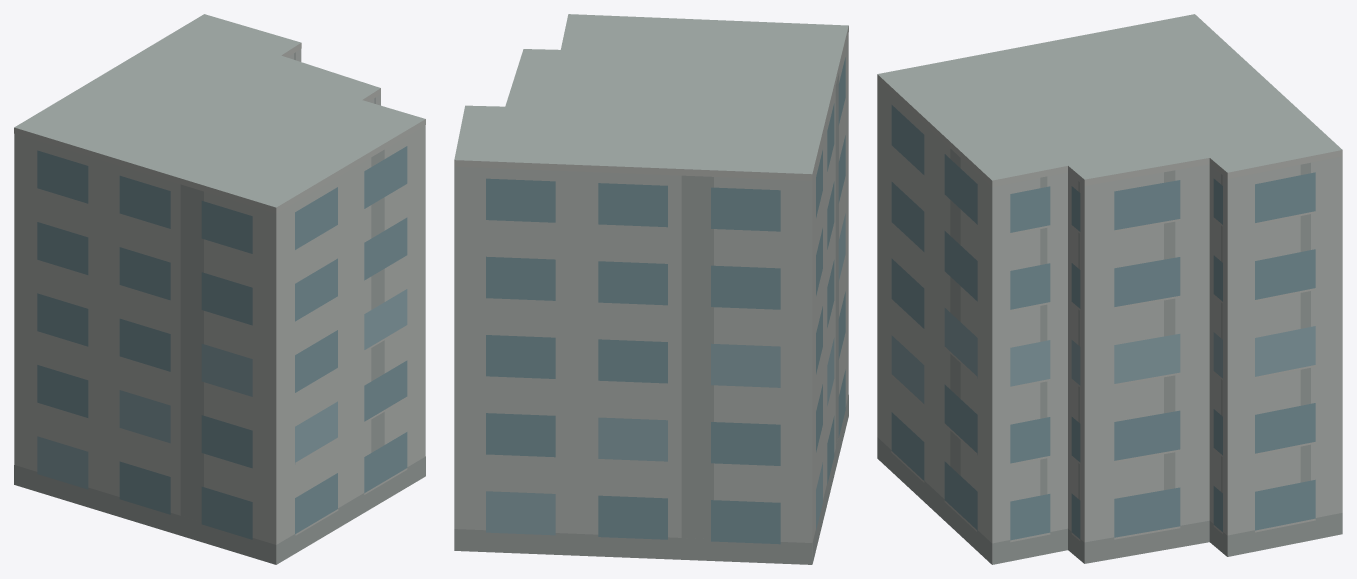
File: survey-upis-32580557.glb
3 renders of one model, left to right at view 1: azimuth 30°, elevation 25°; view 2: azimuth 150°, elevation 25°; view 3: azimuth 270°, elevation 25°, orthographic. The views are drawn at different scales.
Parts seen in each view (by area): view 1: survey-upis-32580557.tmp; view 2: survey-upis-32580557.tmp; view 3: survey-upis-32580557.tmp.
Part boxes in pixels (left/top/right/bottom): survey-upis-32580557.tmp: left=14, top=14, right=425, bottom=564; survey-upis-32580557.tmp: left=454, top=14, right=848, bottom=564; survey-upis-32580557.tmp: left=877, top=14, right=1342, bottom=564.
Size of the model in its own units: 13.4 by 14.4 by 15.81.
